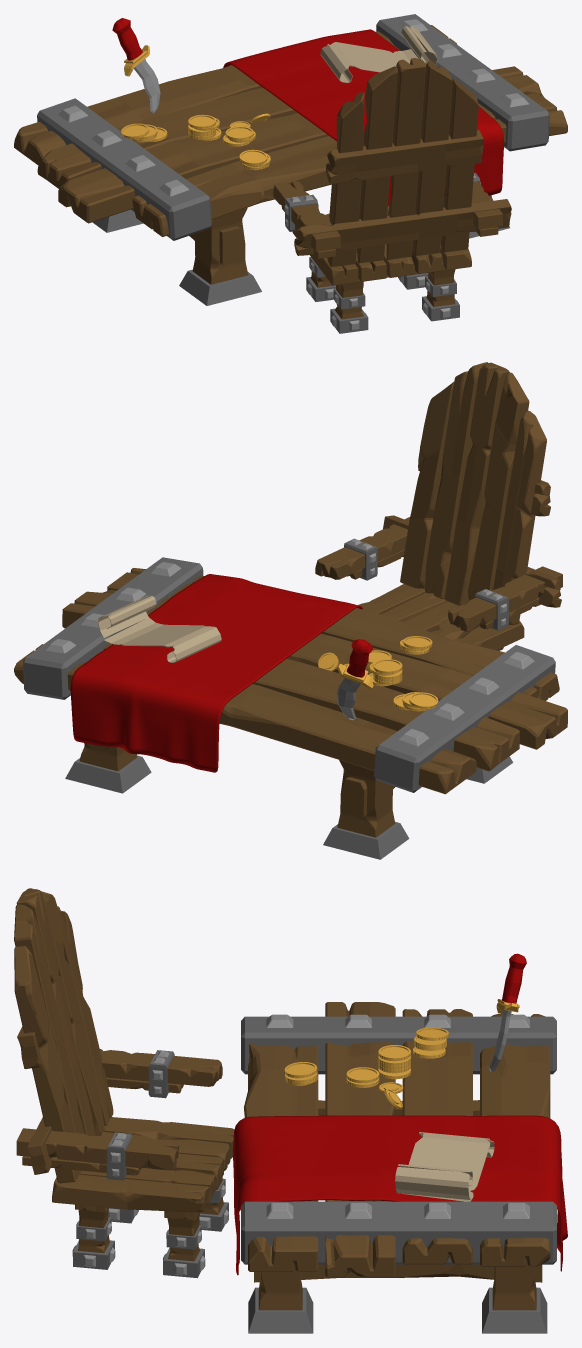
Rendered from Scene_table_and_chair.fbx.
The picture shows the model from 3 angles, top to bottom: view 1: azimuth 30°, elevation 25°; view 2: azimuth 150°, elevation 25°; view 3: azimuth 270°, elevation 25°; orthographic projection. The views are drawn at different scales.
Visible parts, largest first — view 1: Table, Chair, Tablecloth, Paper, Coin, Knife; view 2: Table, Chair, Tablecloth, Paper, Coin, Knife; view 3: Table, Chair, Tablecloth, Paper, Coin, Knife.
Boxes of the visible parts, x1,y1,x2,y2 form: Table: (14,14,567,305); Chair: (273,58,511,333); Tablecloth: (223,29,503,205); Paper: (320,26,437,82); Coin: (121,113,270,170); Knife: (112,18,160,113); Table: (14,557,567,859); Chair: (315,362,562,650); Tablecloth: (70,574,362,772); Paper: (98,595,221,662); Coin: (318,636,438,711); Knife: (337,639,373,720); Table: (241,1002,556,1333); Chair: (14,888,234,1278); Tablecloth: (232,1115,567,1275); Paper: (395,1132,494,1201); Coin: (284,1027,448,1108); Knife: (489,953,526,1072).
Bounding box in the file's own units: 192 × 115 × 172.
